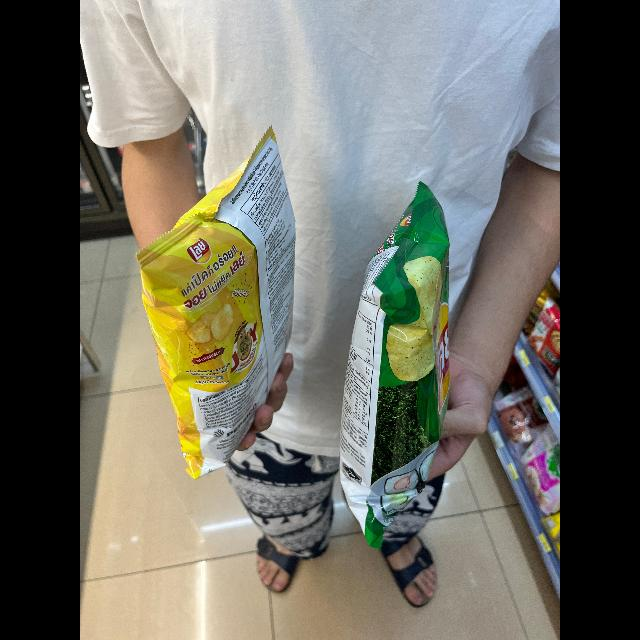snack_bag: (134, 124, 298, 483), (329, 178, 463, 546)
